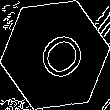O_SW: (24, 22, 86, 88)
